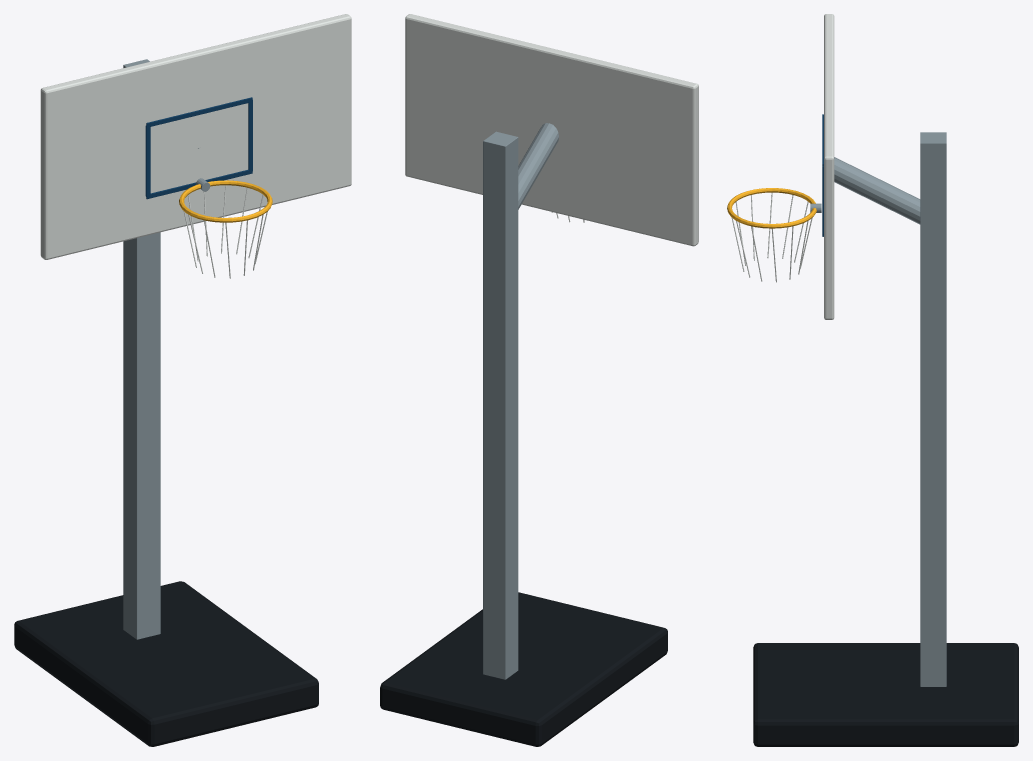
3 renders of one model, left to right at view 1: azimuth 30°, elevation 25°; view 2: azimuth 150°, elevation 25°; view 3: azimuth 270°, elevation 25°, orthographic. The views are drawn at different scales.
Parts seen in each view (by area): view 1: BACKBOARD, BASE, POST, RIM, TARGET_Horizontal.001; view 2: BACKBOARD, BASE, POST, SUPPORT; view 3: BASE, POST, BACKBOARD, SUPPORT, RIM.
Part boxes in pixels (x1=…): BACKBOARD: x1=40, y1=14, x2=351, y2=259; BASE: x1=14, y1=581, x2=318, y2=746; POST: x1=123, y1=59, x2=160, y2=639; RIM: x1=179, y1=180, x2=272, y2=222; TARGET_Horizontal.001: x1=146, y1=97, x2=252, y2=127; BACKBOARD: x1=405, y1=14, x2=698, y2=246; BASE: x1=380, y1=592, x2=667, y2=746; POST: x1=483, y1=131, x2=518, y2=679; SUPPORT: x1=518, y1=123, x2=558, y2=209; BASE: x1=753, y1=643, x2=1018, y2=746; POST: x1=920, y1=132, x2=946, y2=686; BACKBOARD: x1=824, y1=14, x2=834, y2=319; SUPPORT: x1=834, y1=157, x2=920, y2=224; RIM: x1=727, y1=188, x2=816, y2=228.
Bounding box in the file's own units: 1.8 × 3.63 × 1.54.
